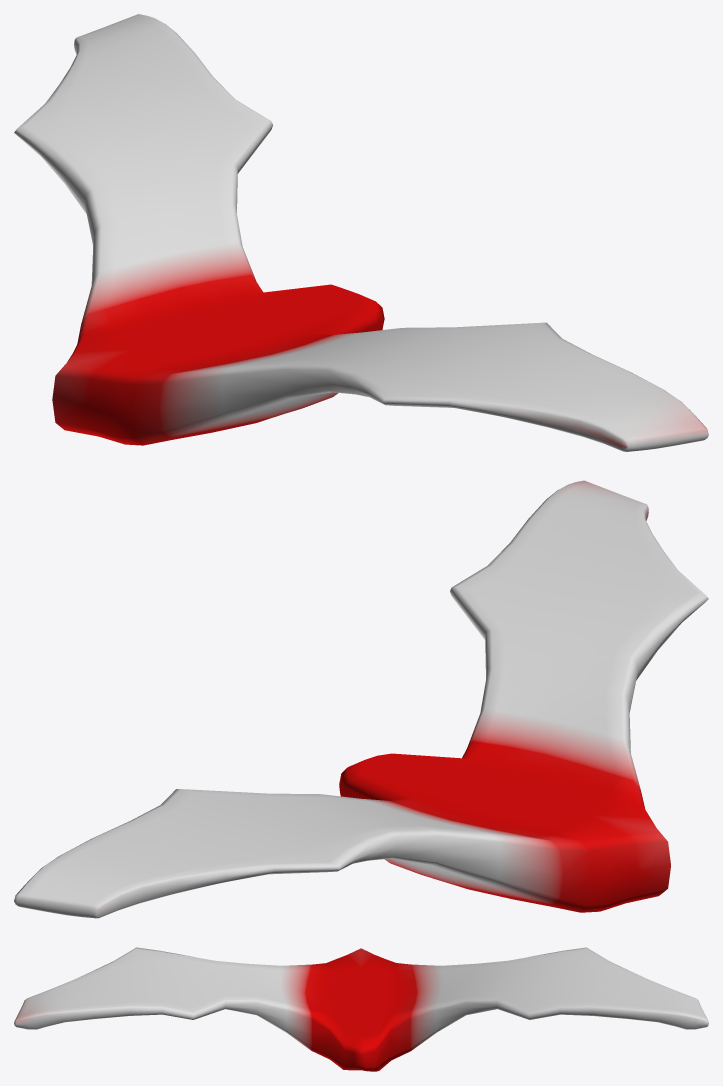
File: SM_Bat.fbx
The picture shows the model from 3 angles, top to bottom: view 1: azimuth 30°, elevation 25°; view 2: azimuth 150°, elevation 25°; view 3: azimuth 270°, elevation 25°; orthographic projection. The views are drawn at different scales.
Visible parts, largest first — view 1: SM_Bat; view 2: SM_Bat; view 3: SM_Bat.
Boxes of the visible parts, x1,y1,x2,y2 form: SM_Bat: (14,14,708,451); SM_Bat: (14,480,708,918); SM_Bat: (14,947,708,1071).
Size of the model in its own units: 45.07 by 17.76 by 119.
